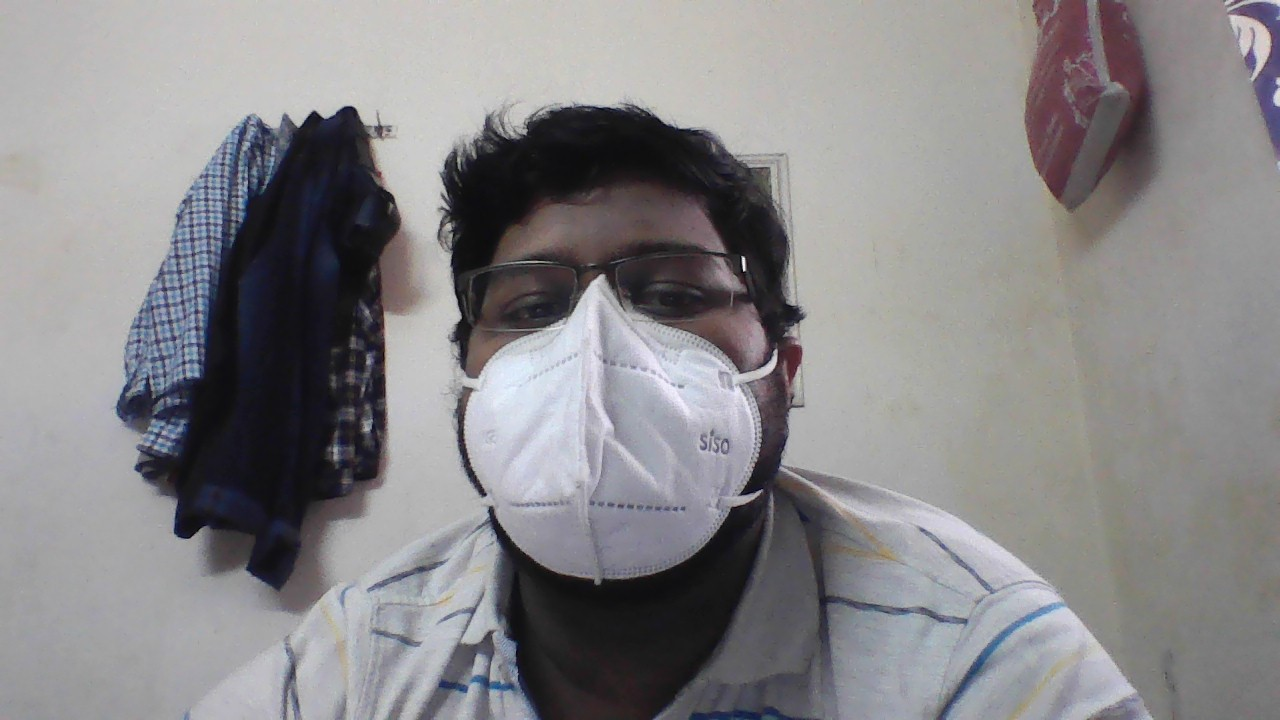Mask: (441, 304, 796, 533)
